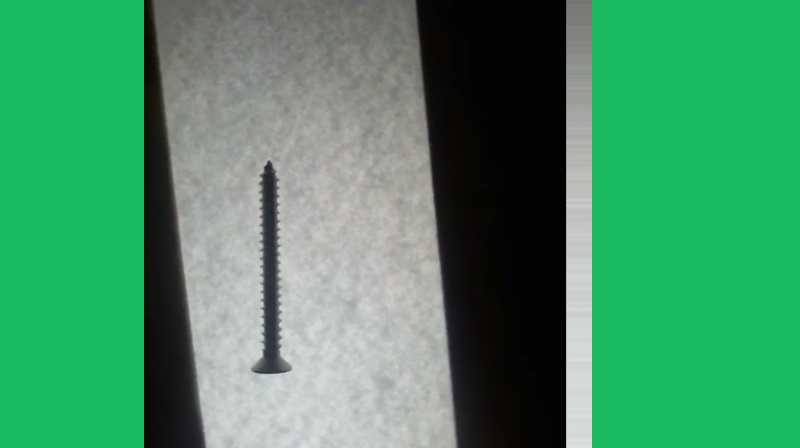S002: (245, 157, 294, 377)
